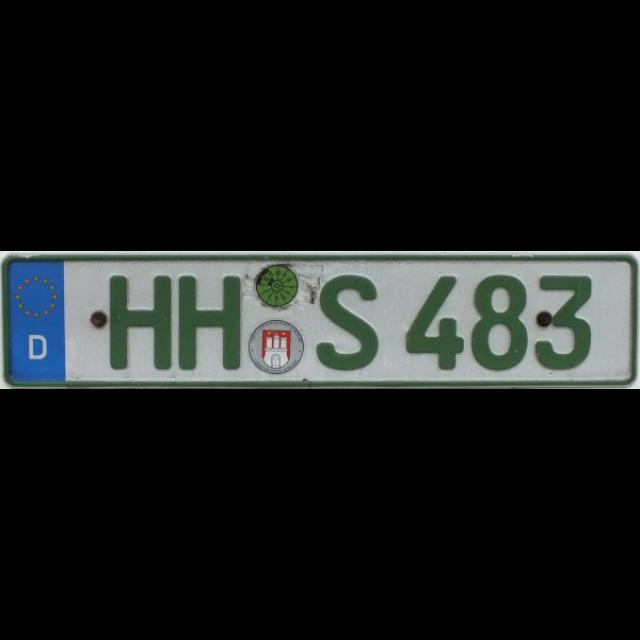d_license_plate: (3, 258, 633, 382)
